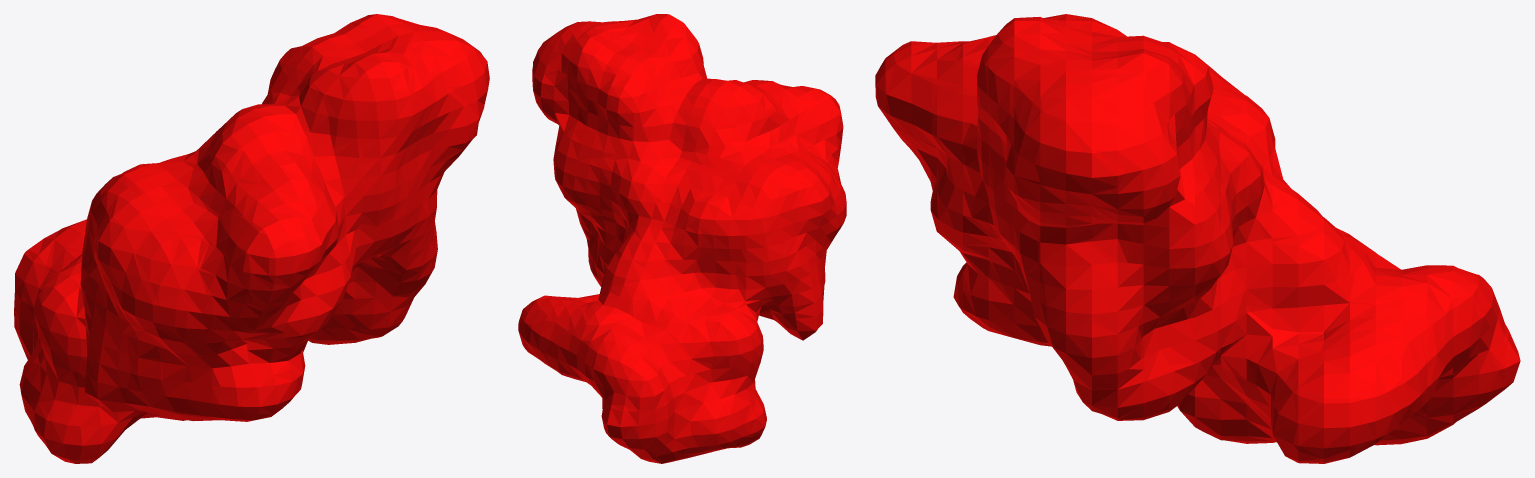
File: rsgA_coarse.dae
3 views of the same model, side by side, from view 1: azimuth 30°, elevation 25°; view 2: azimuth 150°, elevation 25°; view 3: azimuth 270°, elevation 25° (orthographic). The views are drawn at different scales.
Visible parts, largest first — view 1: rsgA; view 2: rsgA; view 3: rsgA.
Boxes of the visible parts, <box> form: rsgA: <box>14,14,489,463</box>; rsgA: <box>518,14,846,463</box>; rsgA: <box>875,14,1520,463</box>.
Size of the model in its own units: 58.51 by 62.81 by 71.25.
